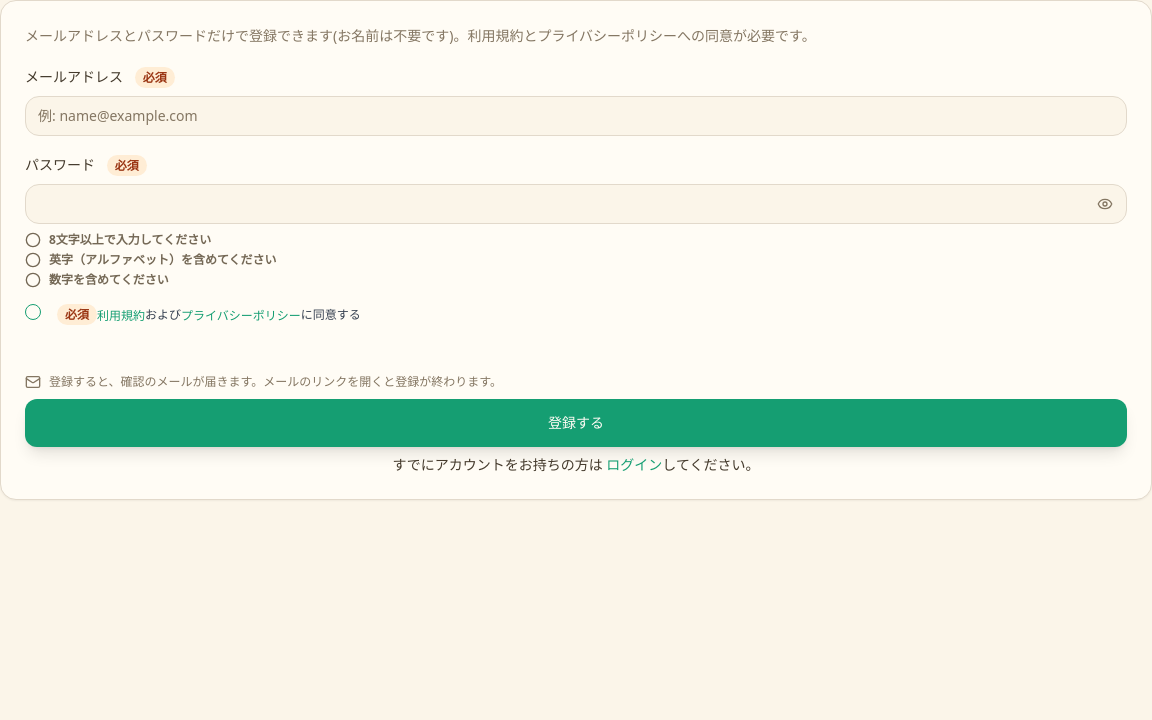
Scenario: RegisterForm › maps an existing account to the approved inline recovery
The width and height of the screenshot is (1152, 720).
Type "demo@example.com" into the field labelled "メールアドレス 必須" at (576, 116), box top-left (25, 96), bottom-right (1127, 136)
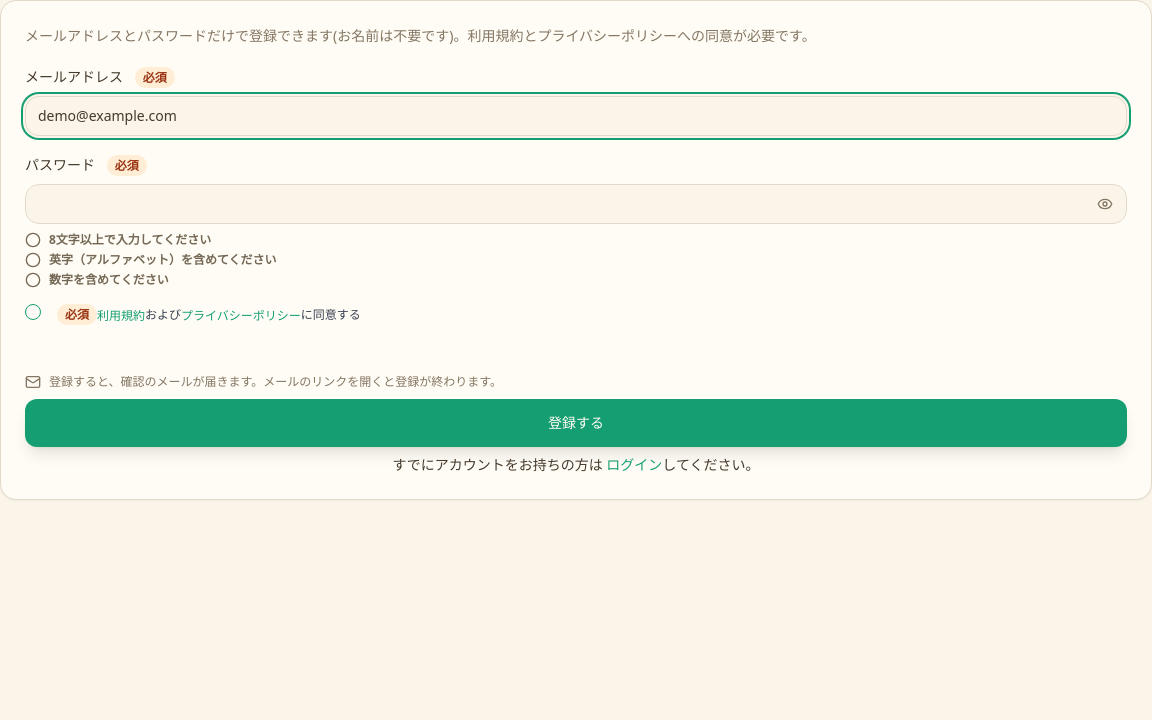
Type "password1" into the password field labelled "パスワード 必須" at (576, 204), box top-left (25, 184), bottom-right (1127, 224)
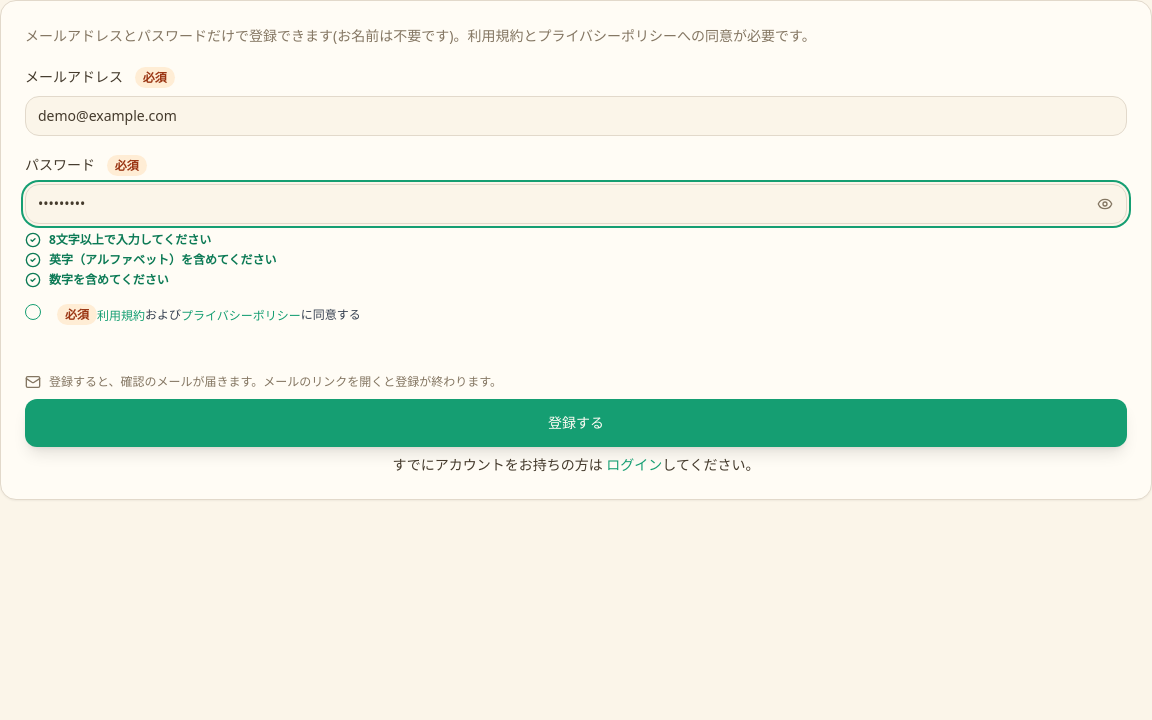
Click the checkbox with test id "agree-to-terms-checkbox" at (33, 312), box top-left (25, 304), bottom-right (41, 320)
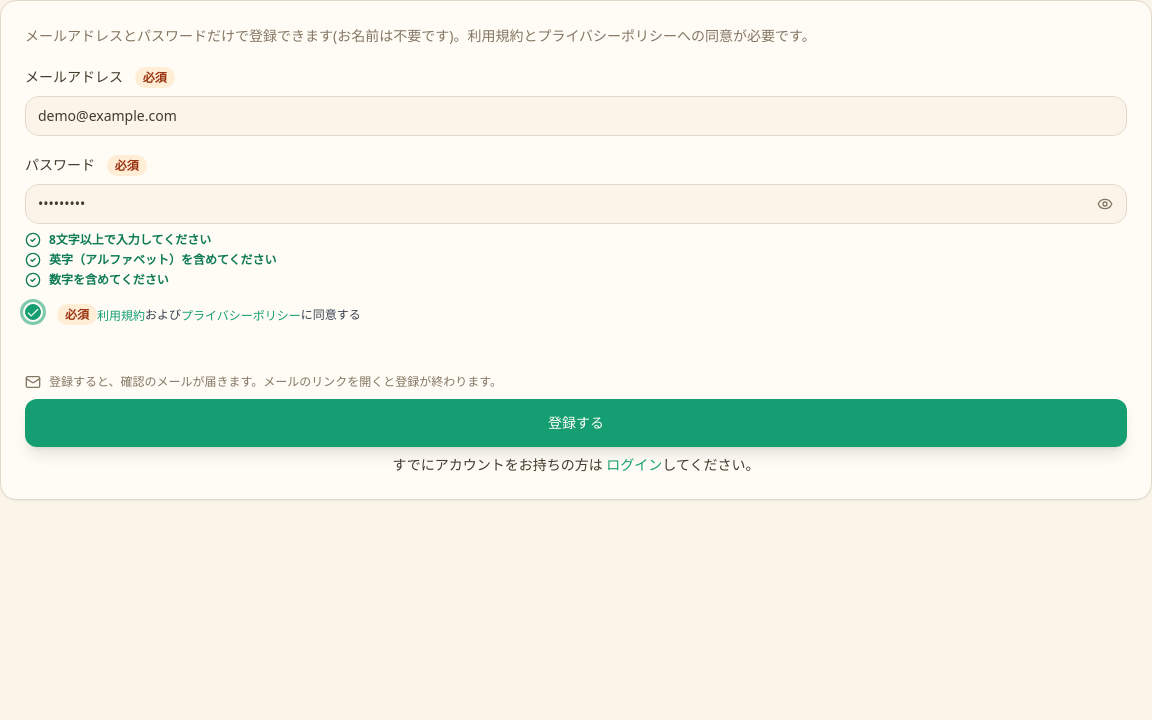
Click the button "登録する" at (576, 423), box top-left (25, 399), bottom-right (1127, 447)
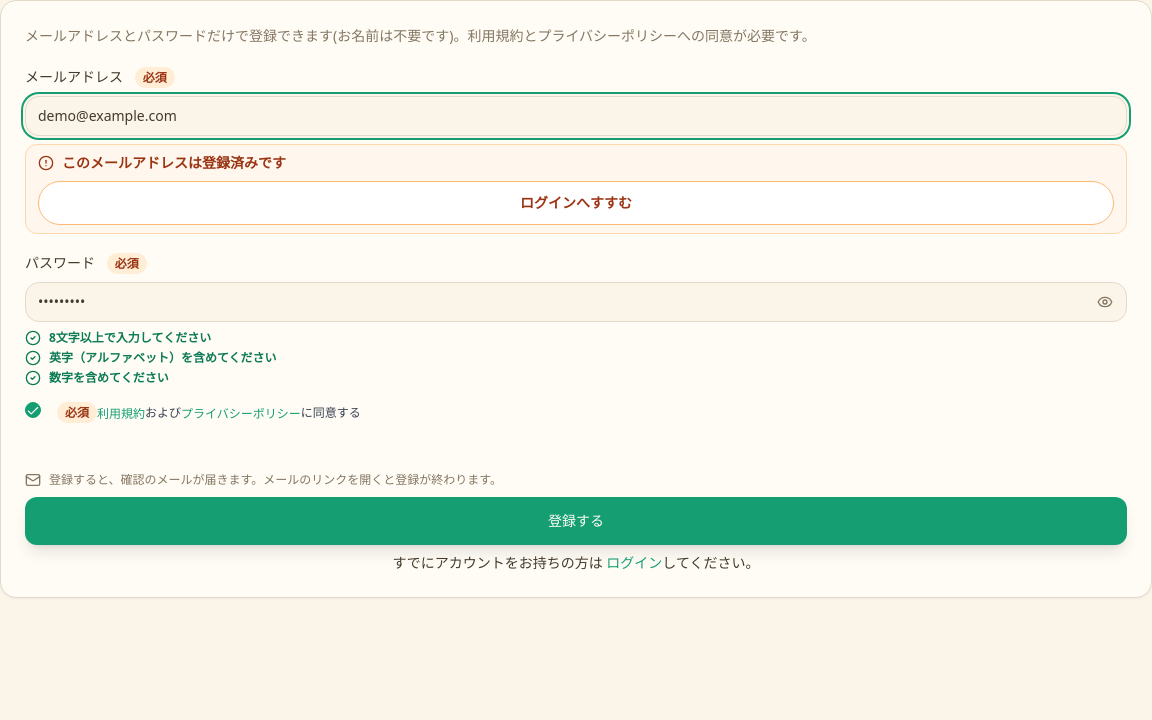
Check: the text "このメールアドレスは登録済みです" is shown, box top-left (38, 153), bottom-right (286, 172)
